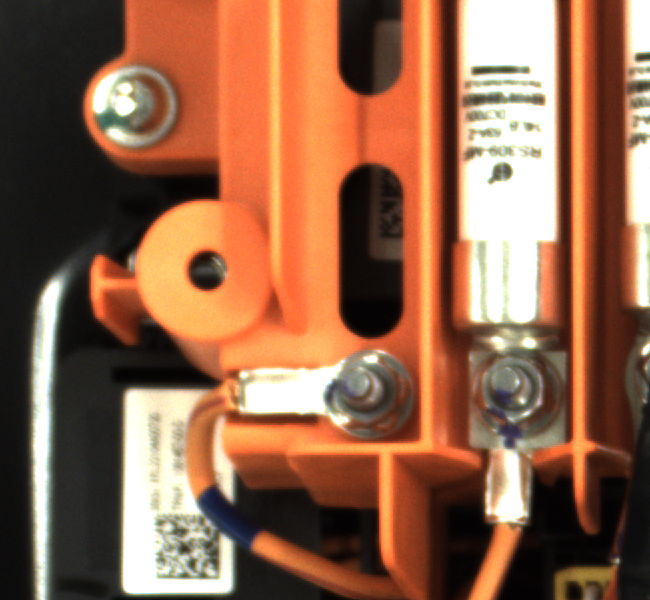screw_m: (86, 59, 184, 150)
screw_s: (314, 341, 416, 444), (462, 342, 565, 442)
